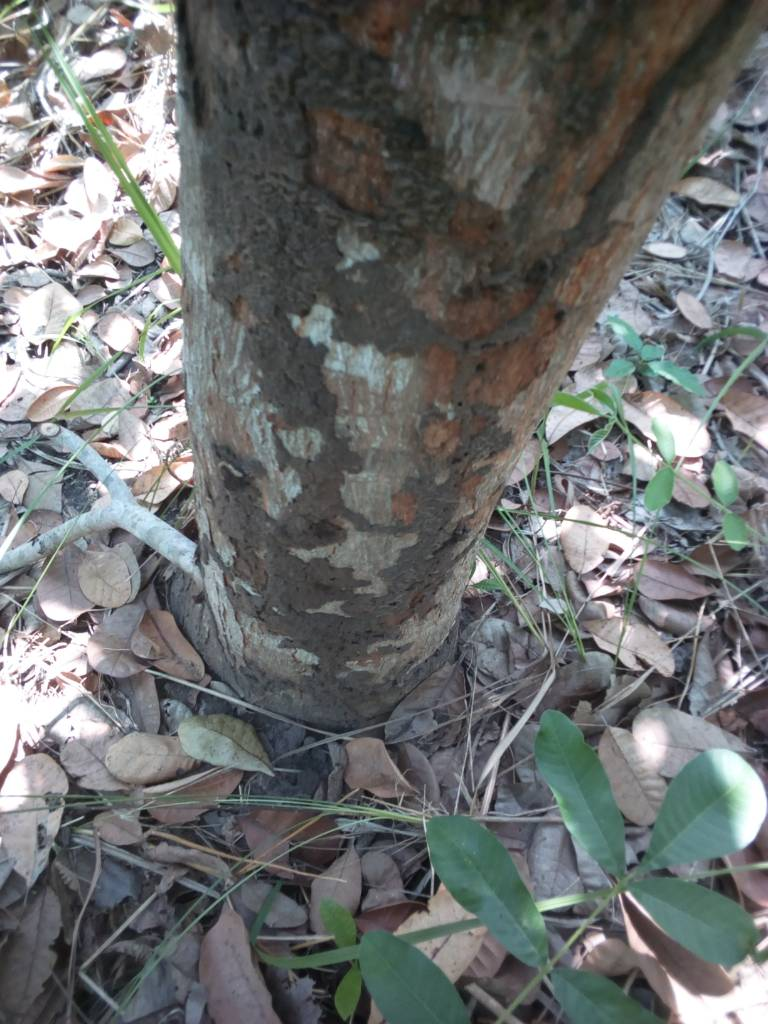Termites: (210, 14, 493, 680)
